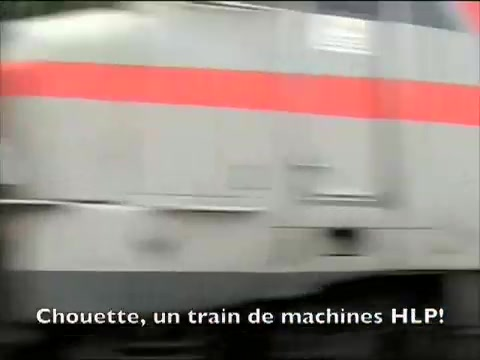train: (1, 1, 480, 308)
